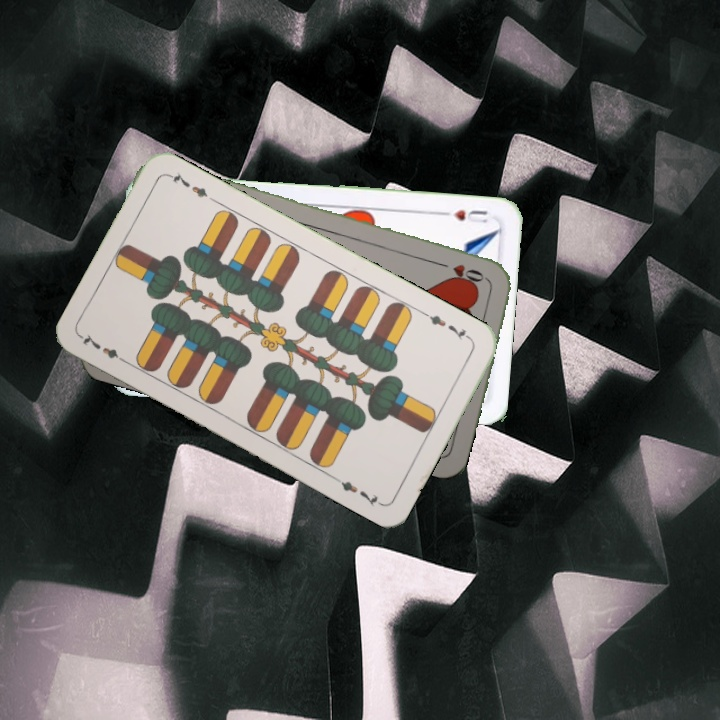E7: (77, 329, 131, 367), (420, 308, 475, 343)
HO: (435, 258, 492, 286)
HU: (437, 206, 491, 226)
